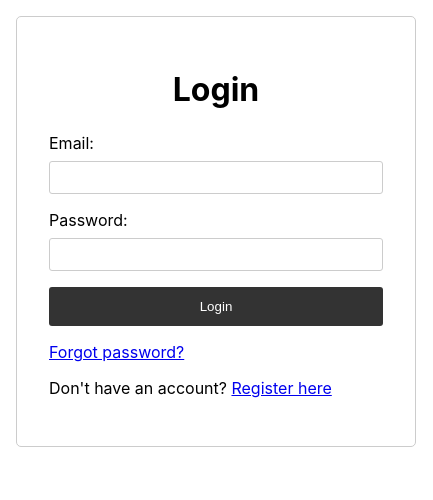
Test: LoginPage › shows an error message on failed login
This screenshot has width=433, height=500.
Step 1. Type "wrong@example.com" into the field labelled "Email:" → (216, 178), box [49, 161, 383, 194]
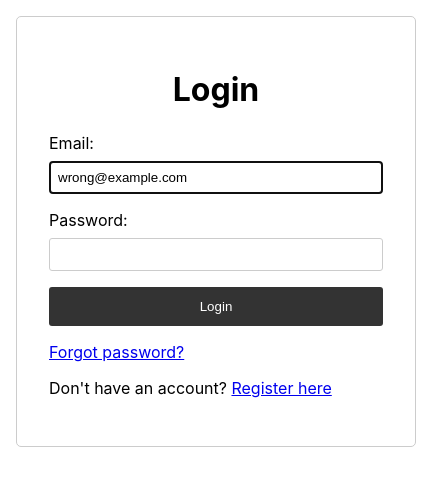
Step 2. Type "wrongpassword" into the password field labelled "Password:" → (216, 255), box [49, 238, 383, 271]
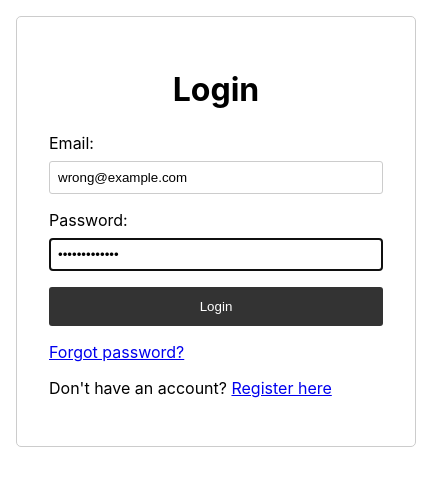
Step 3. Click the button "Login" → (216, 307), box [49, 287, 383, 326]
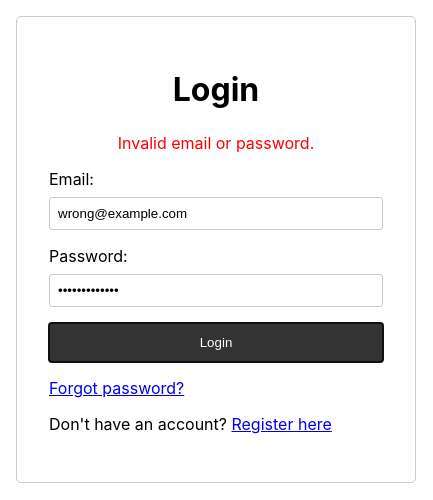
Check: the text "Invalid email or password." is shown, box [118, 133, 314, 153]
